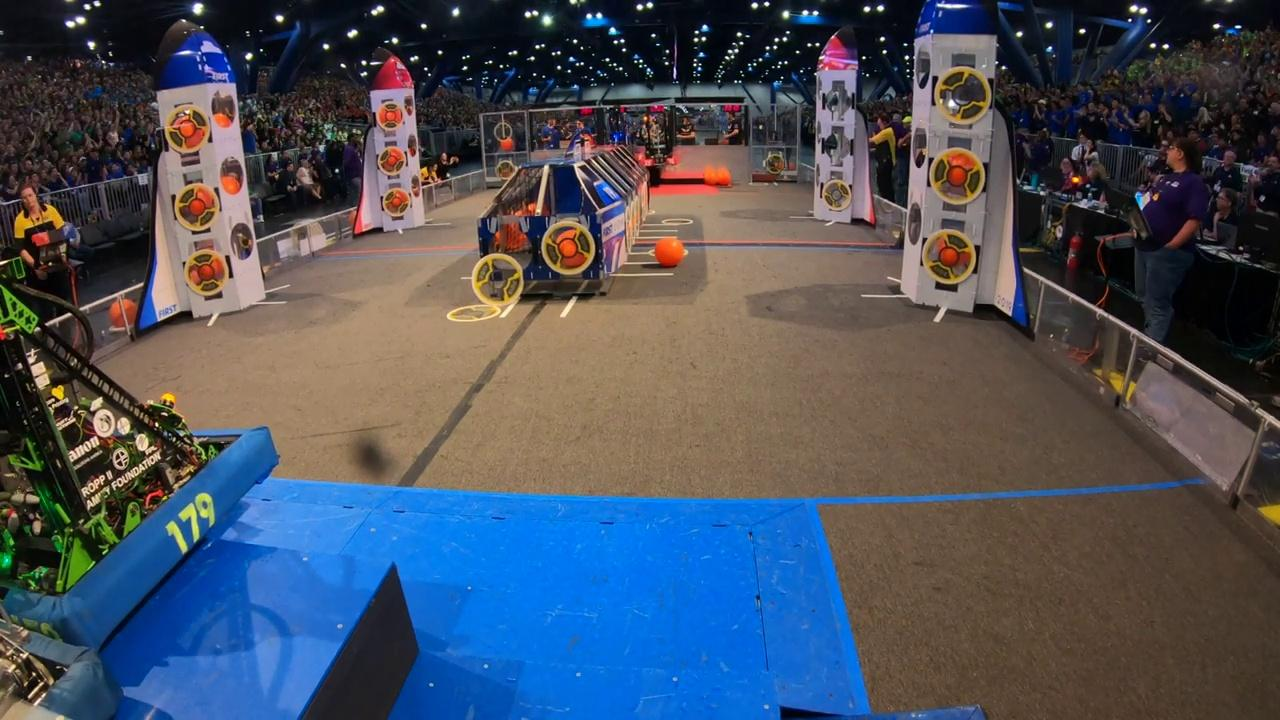robot: (0, 237, 283, 651), (639, 105, 680, 167)
